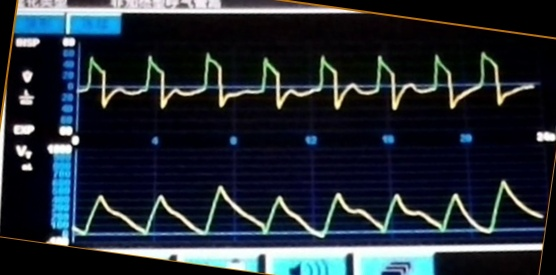Premature_cycling Flow: (81, 47, 535, 127)
Premature_cycling Volume: (77, 177, 543, 242)
